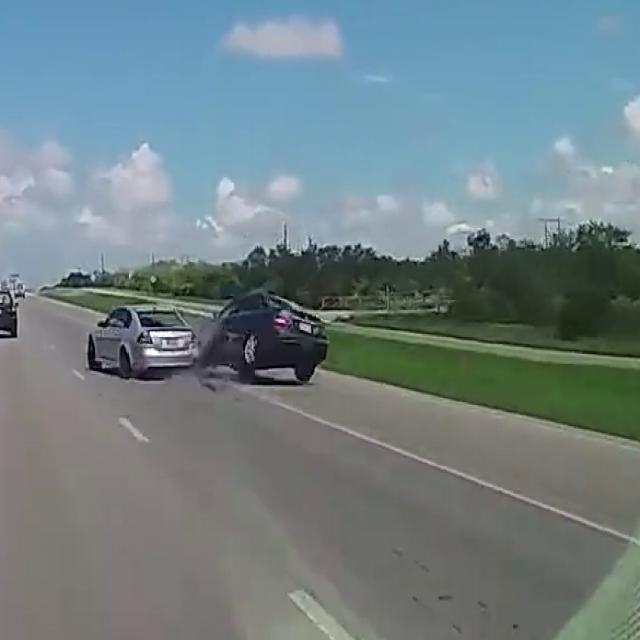accident: (78, 294, 332, 401)
